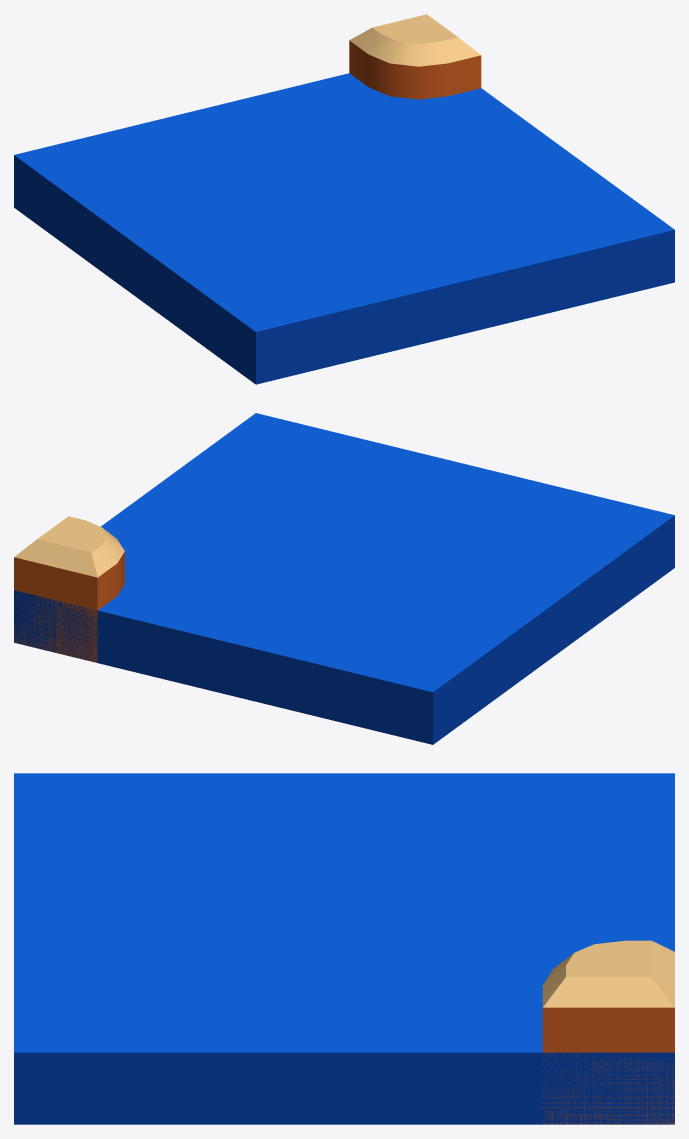
Rendered from water_corner_inner.glb.
3 renders of one model, top to bottom at view 1: azimuth 30°, elevation 25°; view 2: azimuth 150°, elevation 25°; view 3: azimuth 270°, elevation 25°, orthographic. The views are drawn at different scales.
Parts seen in each view (by area): view 1: water_corner_inner; view 2: water_corner_inner; view 3: water_corner_inner.
Part boxes in pixels (box(x1,y1,x2,y2)): water_corner_inner: box(14, 14, 674, 384); water_corner_inner: box(14, 413, 674, 744); water_corner_inner: box(14, 773, 674, 1124).
Bounding box in the file's own units: 1 × 0.23 × 1.
1 material, 1 textured.
